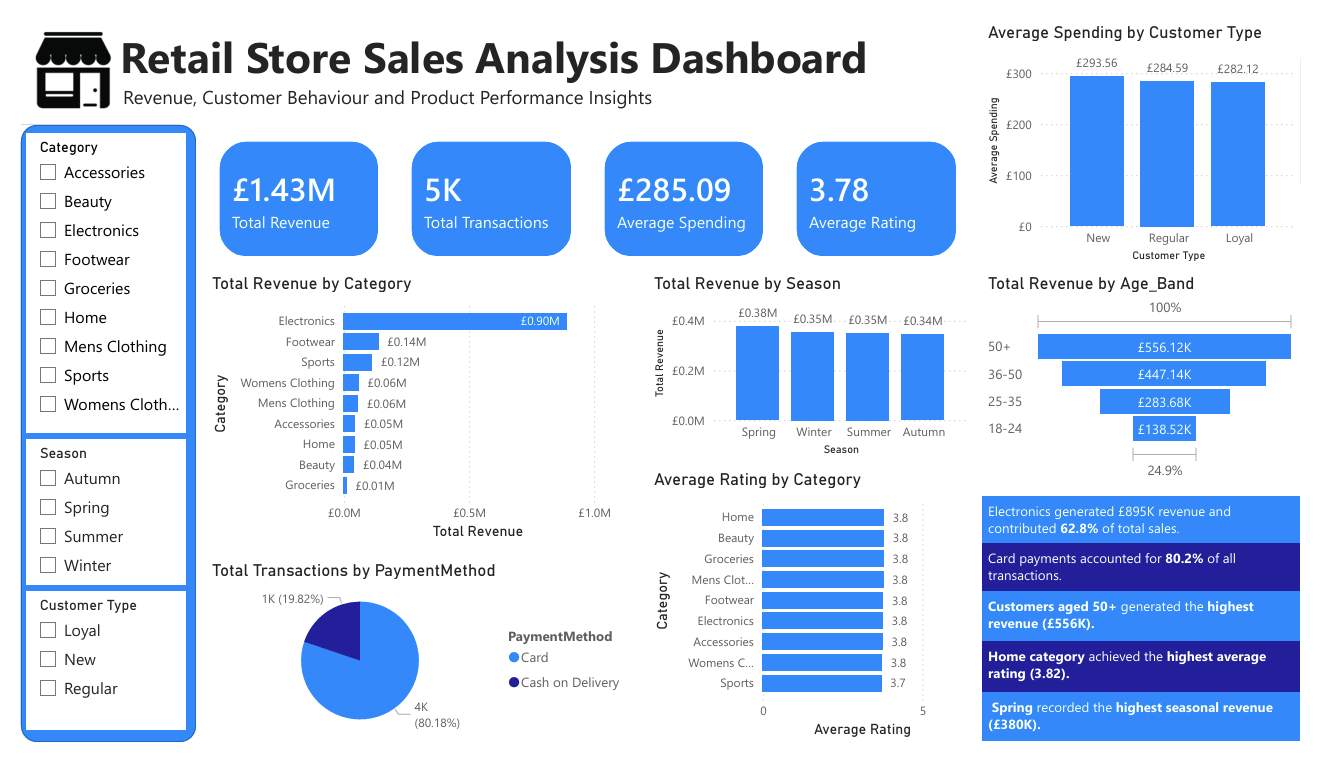

What the dashboard file says about the page in this screenshot:
{"tool":"powerbi","page":{"name":"Page 1","canvas":[1280,720],"ordinal":0},"visuals":[{"type":"clusteredBarChart","fields":{"Category":["retail_store_sales.Category"],"Y":["retail_store_sales.Total Revenue"]},"box":[186,251,427,271],"z":0},{"type":"columnChart","fields":{"Category":["retail_store_sales.Season"],"Y":["retail_store_sales.Total Revenue"]},"box":[628,251,324,187],"z":1000},{"type":"pieChart","fields":{"Category":["retail_store_sales.PaymentMethod"],"Y":["retail_store_sales.Total Transactions"]},"box":[186.3,538.2,426.3,181.8],"z":2000},{"type":"clusteredColumnChart","fields":{"Y":["retail_store_sales.Average Spending"],"Category":["retail_store_sales.Customer Type"]},"box":[962,0,318,244],"z":3000},{"type":"funnel","fields":{"Category":["retail_store_sales.Age_Band"],"Y":["retail_store_sales.Total Revenue"]},"box":[962,251,318,211],"z":4000},{"type":"shape","box":[0,103,174.6,617],"z":5000},{"type":"clusteredBarChart","fields":{"Category":["retail_store_sales.Category"],"Y":["retail_store_sales.Average Rating"]},"box":[627.8,446.9,322.4,273.1],"z":6000},{"type":"textbox","box":[0,0,950.1,96.7],"z":7000},{"type":"cardVisual","fields":{"Data":["retail_store_sales.Average Spending"]},"box":[566.9,103,192.5,147.8],"z":8000},{"type":"slicer","fields":{"Values":["retail_store_sales.Category"]},"box":[6.3,111.9,159.4,300],"z":9000},{"type":"slicer","fields":{"Values":["retail_store_sales.Customer Type"]},"box":[6.3,570.4,159.4,138.8],"z":10000},{"type":"slicer","fields":{"Values":["retail_store_sales.Season"]},"box":[6.3,418.2,159.4,146],"z":11000},{"type":"cardVisual","fields":{"Data":["retail_store_sales.Average Rating"]},"box":[759.4,103,192.5,147.8],"z":12000},{"type":"cardVisual","fields":{"Data":["retail_store_sales.Total Transactions"]},"box":[374.3,103,192.5,147.8],"z":13000},{"type":"cardVisual","fields":{"Data":["retail_store_sales.Total Revenue"]},"box":[181.8,103,192.5,147.8],"z":14000},{"type":"textbox","box":[961.8,474.6,317.9,47.5],"z":14002},{"type":"textbox","box":[961.8,522.1,317.9,48.4],"z":14003},{"type":"textbox","box":[961.8,570.4,317.9,49.3],"z":14004},{"type":"textbox","box":[961.8,619.7,317.9,51],"z":14005},{"type":"textbox","box":[961.8,670.7,317.9,49.3],"z":14006},{"type":"image","box":[0,0,103.9,96.7],"z":14007}]}

Visuals, with their boxes in screenshot pixels (x1, y1, x2, y2), scaled from the page's 1280x720 canvas onto the 1320x761 screenshot:
clusteredBarChart - retail_store_sales.Category x retail_store_sales.Total Revenue: x1=192 y1=265 x2=632 y2=552
columnChart - retail_store_sales.Season x retail_store_sales.Total Revenue: x1=648 y1=265 x2=982 y2=463
pieChart - retail_store_sales.PaymentMethod x retail_store_sales.Total Transactions: x1=192 y1=569 x2=632 y2=760
clusteredColumnChart - retail_store_sales.Average Spending x retail_store_sales.Customer Type: x1=992 y1=0 x2=1319 y2=258
funnel - retail_store_sales.Age_Band x retail_store_sales.Total Revenue: x1=992 y1=265 x2=1319 y2=488
shape: x1=0 y1=109 x2=180 y2=760
clusteredBarChart - retail_store_sales.Category x retail_store_sales.Average Rating: x1=647 y1=472 x2=980 y2=760
textbox: x1=0 y1=0 x2=980 y2=102
cardVisual - retail_store_sales.Average Spending: x1=585 y1=109 x2=783 y2=265
slicer - retail_store_sales.Category: x1=6 y1=118 x2=171 y2=435
slicer - retail_store_sales.Customer Type: x1=6 y1=603 x2=171 y2=750
slicer - retail_store_sales.Season: x1=6 y1=442 x2=171 y2=596
cardVisual - retail_store_sales.Average Rating: x1=783 y1=109 x2=982 y2=265
cardVisual - retail_store_sales.Total Transactions: x1=386 y1=109 x2=585 y2=265
cardVisual - retail_store_sales.Total Revenue: x1=187 y1=109 x2=386 y2=265
textbox: x1=992 y1=502 x2=1319 y2=552
textbox: x1=992 y1=552 x2=1319 y2=603
textbox: x1=992 y1=603 x2=1319 y2=655
textbox: x1=992 y1=655 x2=1319 y2=709
textbox: x1=992 y1=709 x2=1319 y2=760
image: x1=0 y1=0 x2=107 y2=102
